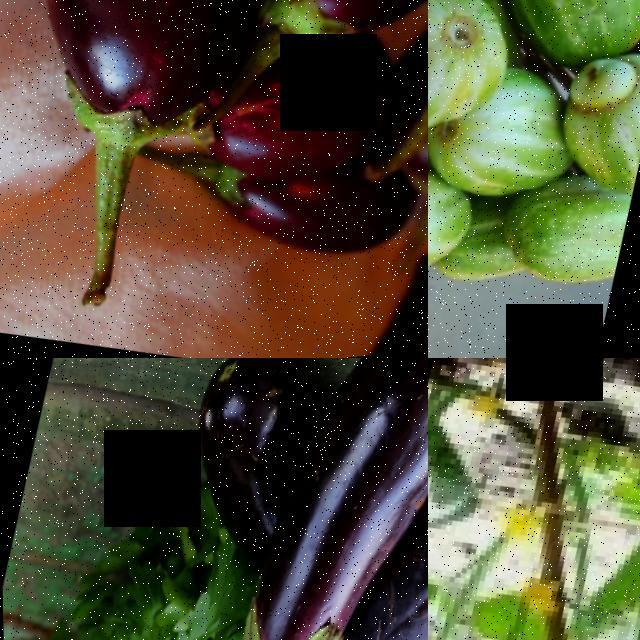cucumber: (492, 183, 631, 317), (583, 358, 640, 640)
eggplant: (214, 358, 428, 640), (0, 0, 308, 189), (160, 358, 311, 578), (203, 148, 415, 298), (255, 0, 428, 86)
